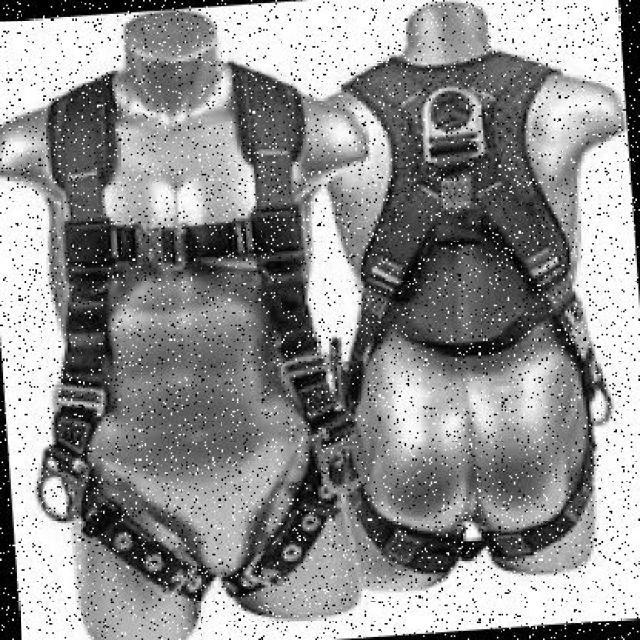Arnes_seguridad: (9, 52, 378, 612), (342, 42, 621, 579)
